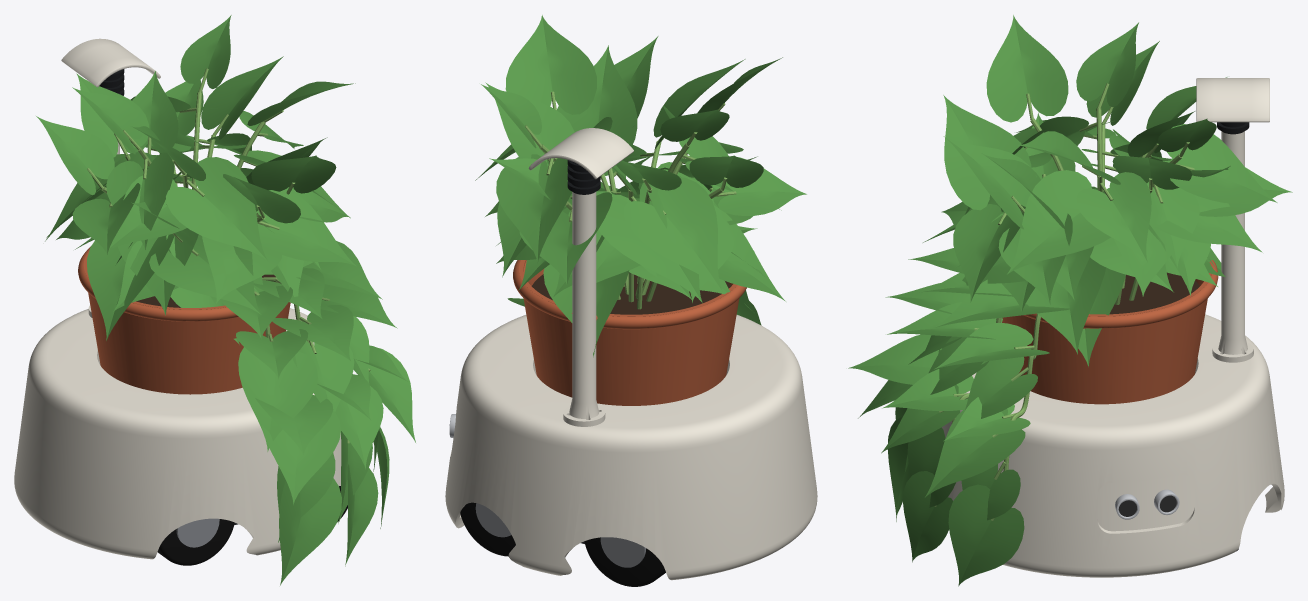
The model's file is robot-planter-viewer.glb.
3 renders of one model, left to right at view 1: azimuth 30°, elevation 25°; view 2: azimuth 150°, elevation 25°; view 3: azimuth 270°, elevation 25°, orthographic. The views are drawn at different scales.
Visible parts, largest first — view 1: shell_body, pot, leaf.038, leaf.054, leaf.058, leaf.024, leaf.042, leaf.034, leaf.056, leaf.027, leaf.030, sensor_mast (+40 smaller); view 2: shell_body, pot, sensor_mast, leaf.022, leaf.003, leaf.010, leaf.051, leaf.018, leaf.026, leaf.014, soil, leaf.007 (+20 smaller); view 3: shell_body, pot, sensor_mast, leaf.039, leaf.001, leaf.072, leaf.002, leaf.043, leaf.010, leaf.042, leaf.070, leaf.031 (+39 smaller).
Part boxes in pixels (bbox=[...]): shell_body: bbox=[14, 308, 352, 559]; pot: bbox=[78, 246, 290, 394]; leaf.038: bbox=[166, 157, 267, 260]; leaf.054: bbox=[238, 347, 317, 451]; leaf.058: bbox=[279, 478, 341, 585]; leaf.024: bbox=[87, 234, 174, 340]; leaf.042: bbox=[257, 190, 356, 266]; leaf.034: bbox=[149, 234, 261, 314]; leaf.056: bbox=[261, 411, 341, 504]; leaf.027: bbox=[36, 116, 114, 194]; leaf.030: bbox=[106, 152, 174, 250]; sensor_mast: bbox=[61, 38, 160, 317]; shell_body: bbox=[445, 315, 817, 580]; pot: bbox=[513, 260, 746, 405]; sensor_mast: bbox=[528, 128, 633, 426]; leaf.022: bbox=[624, 177, 722, 291]; leaf.003: bbox=[505, 15, 596, 114]; leaf.010: bbox=[496, 154, 572, 262]; leaf.051: bbox=[557, 45, 637, 146]; leaf.018: bbox=[598, 175, 702, 303]; leaf.026: bbox=[711, 157, 806, 215]; leaf.014: bbox=[519, 192, 612, 285]; soil: bbox=[531, 274, 731, 314]; leaf.007: bbox=[485, 82, 574, 163]; shell_body: bbox=[942, 314, 1284, 577]; pot: bbox=[1002, 260, 1218, 404]; sensor_mast: bbox=[1196, 78, 1269, 362]; leaf.039: bbox=[986, 15, 1068, 122]; leaf.001: bbox=[1007, 170, 1110, 274]; leaf.072: bbox=[948, 484, 1024, 586]; leaf.002: bbox=[1076, 172, 1151, 262]; leaf.043: bbox=[943, 95, 1031, 210]; leaf.010: bbox=[1167, 124, 1277, 203]; leaf.042: bbox=[953, 204, 1025, 302]; leaf.070: bbox=[925, 408, 1025, 497]; leaf.031: bbox=[1076, 22, 1138, 106].
Size of the model in its own units: 0.2578 by 0.347 by 0.3026.
